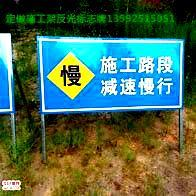sign: (38, 36, 183, 109)
